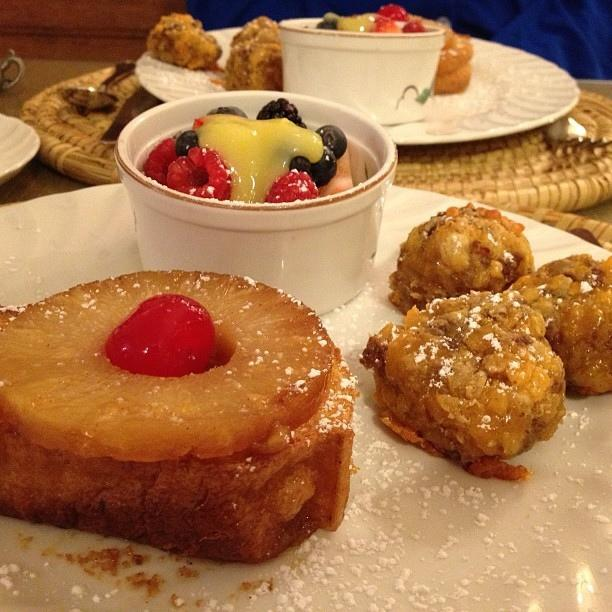blueberry: (308, 146, 336, 188), (315, 124, 347, 160), (176, 130, 200, 156), (206, 107, 248, 118), (316, 21, 336, 29)
cherry: (106, 294, 216, 378), (376, 4, 409, 22), (402, 22, 426, 32)
pineapple: (2, 270, 336, 461)
raspberry: (166, 147, 231, 200), (142, 138, 179, 185), (263, 172, 319, 203), (256, 97, 308, 129), (369, 16, 402, 34), (377, 4, 409, 21), (401, 22, 425, 33)
